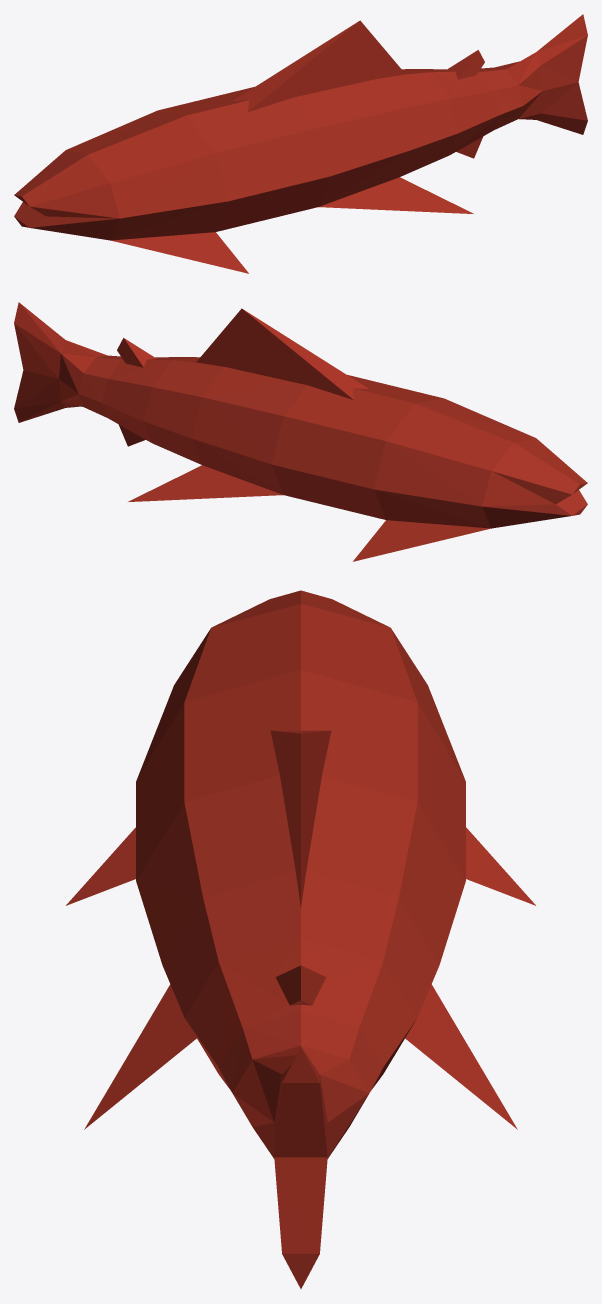
Rendered from fish-coral.glb.
3 renders of one model, top to bottom at view 1: azimuth 30°, elevation 25°; view 2: azimuth 150°, elevation 25°; view 3: azimuth 270°, elevation 25°, orthographic. The views are drawn at different scales.
Visible parts, largest first — view 1: fish-coral; view 2: fish-coral; view 3: fish-coral.
Part boxes in pixels (x1,y1,x2,y2): fish-coral: (14, 14, 587, 273); fish-coral: (14, 302, 587, 561); fish-coral: (66, 590, 535, 1288).
Size of the model in its own units: 0.66 by 0.19 by 0.24.
